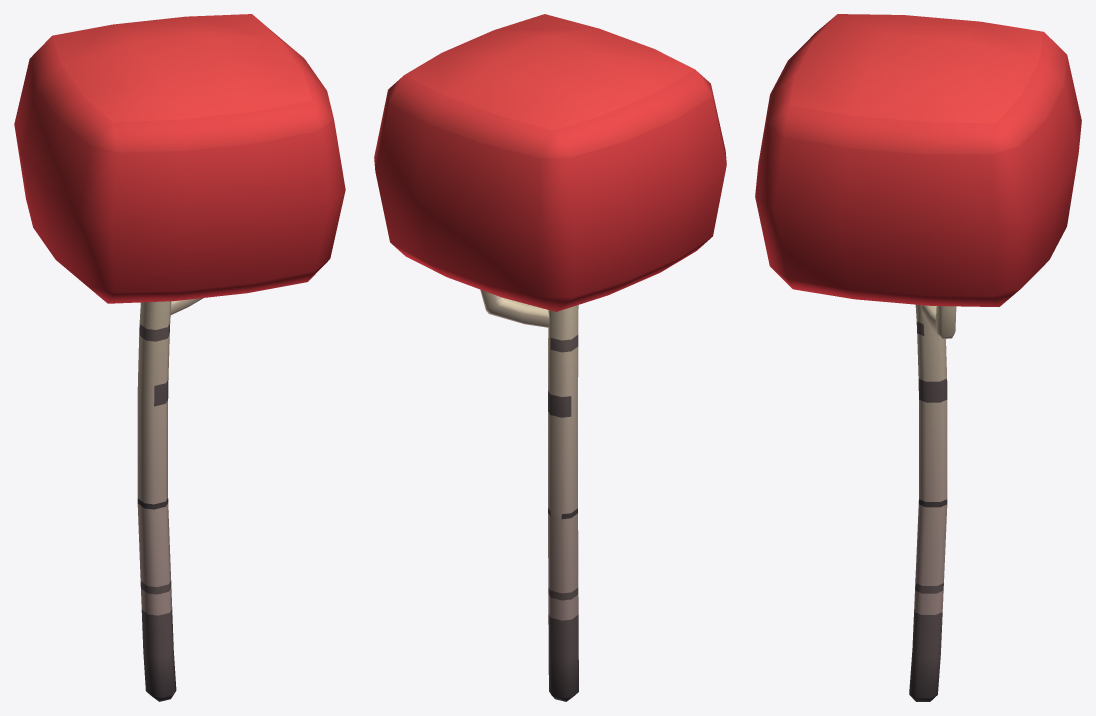
Rendered from birch_tree_col3_08.fbx.
3 views of the same model, side by side, from view 1: azimuth 30°, elevation 25°; view 2: azimuth 150°, elevation 25°; view 3: azimuth 270°, elevation 25° (orthographic). The views are drawn at different scales.
Visible parts, largest first — view 1: birch_tree_col3_08; view 2: birch_tree_col3_08; view 3: birch_tree_col3_08.
Part boxes in pixels (left/top/right/bottom): birch_tree_col3_08: left=14, top=14, right=345, bottom=701; birch_tree_col3_08: left=374, top=14, right=726, bottom=701; birch_tree_col3_08: left=755, top=14, right=1081, bottom=701.
Bounding box in the file's own units: 280 × 618 × 280.
Materials: 1 (1 with a texture image).
